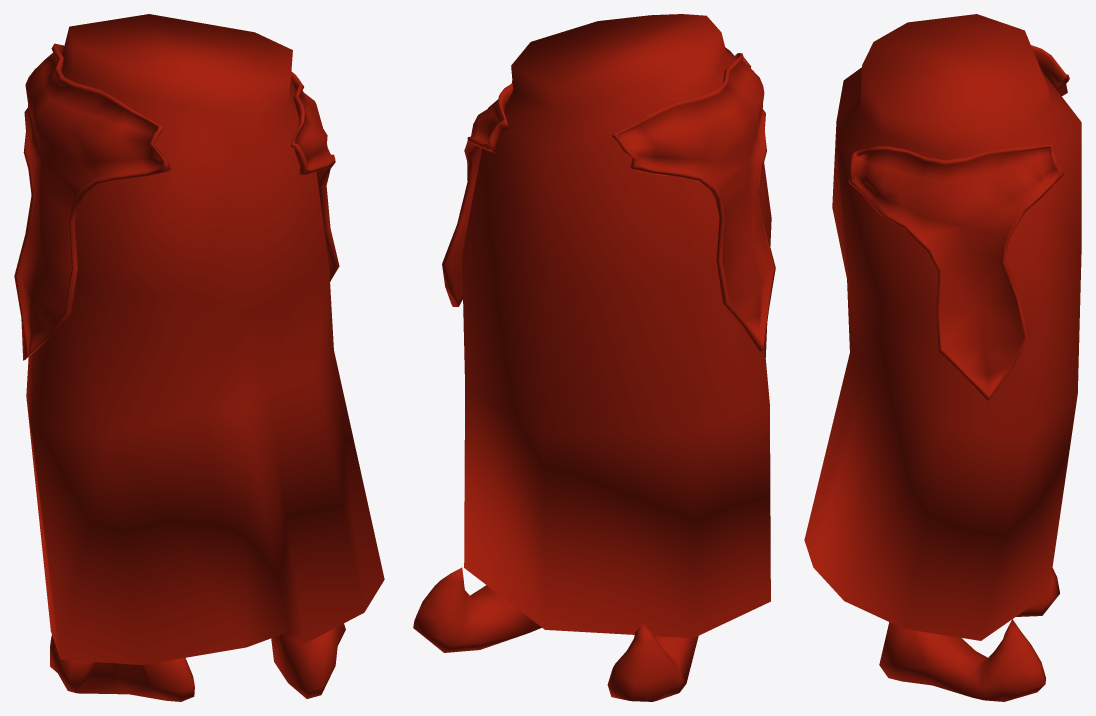
Rendered from bot_000161.obj.
3 views of the same model, side by side, from view 1: azimuth 30°, elevation 25°; view 2: azimuth 150°, elevation 25°; view 3: azimuth 270°, elevation 25° (orthographic). The views are drawn at different scales.
Visible parts, largest first — view 1: LowPoly_Warlock.004_Plane.004; view 2: LowPoly_Warlock.004_Plane.004; view 3: LowPoly_Warlock.004_Plane.004.
Part boxes in pixels (left/top/right/bottom): LowPoly_Warlock.004_Plane.004: left=14, top=14, right=384, bottom=701; LowPoly_Warlock.004_Plane.004: left=413, top=14, right=775, bottom=701; LowPoly_Warlock.004_Plane.004: left=804, top=14, right=1081, bottom=701.
Size of the model in its own units: 0.5985 by 1.14 by 0.49.
